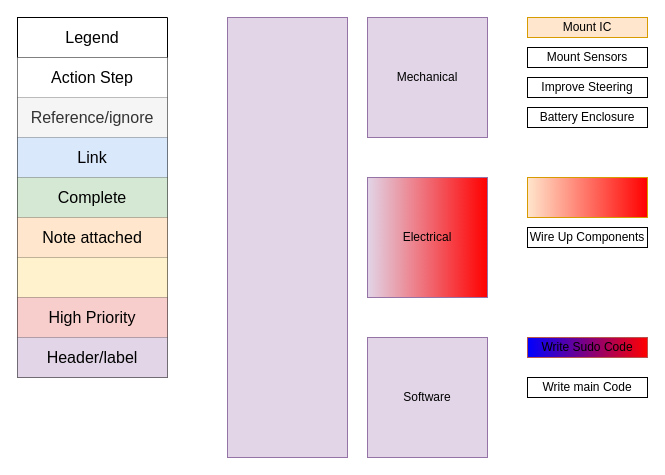
The diagram is 665 pixels wide and 475 high, and some of its shapes have lost their labels. Here are the shapes that lost their labels. From the top down, the box of each, then its label:
(526, 176, 648, 218): Decide on Arduino or Custom IC Bassed on cost and complexity
(226, 16, 348, 458): Self Driving Truck
